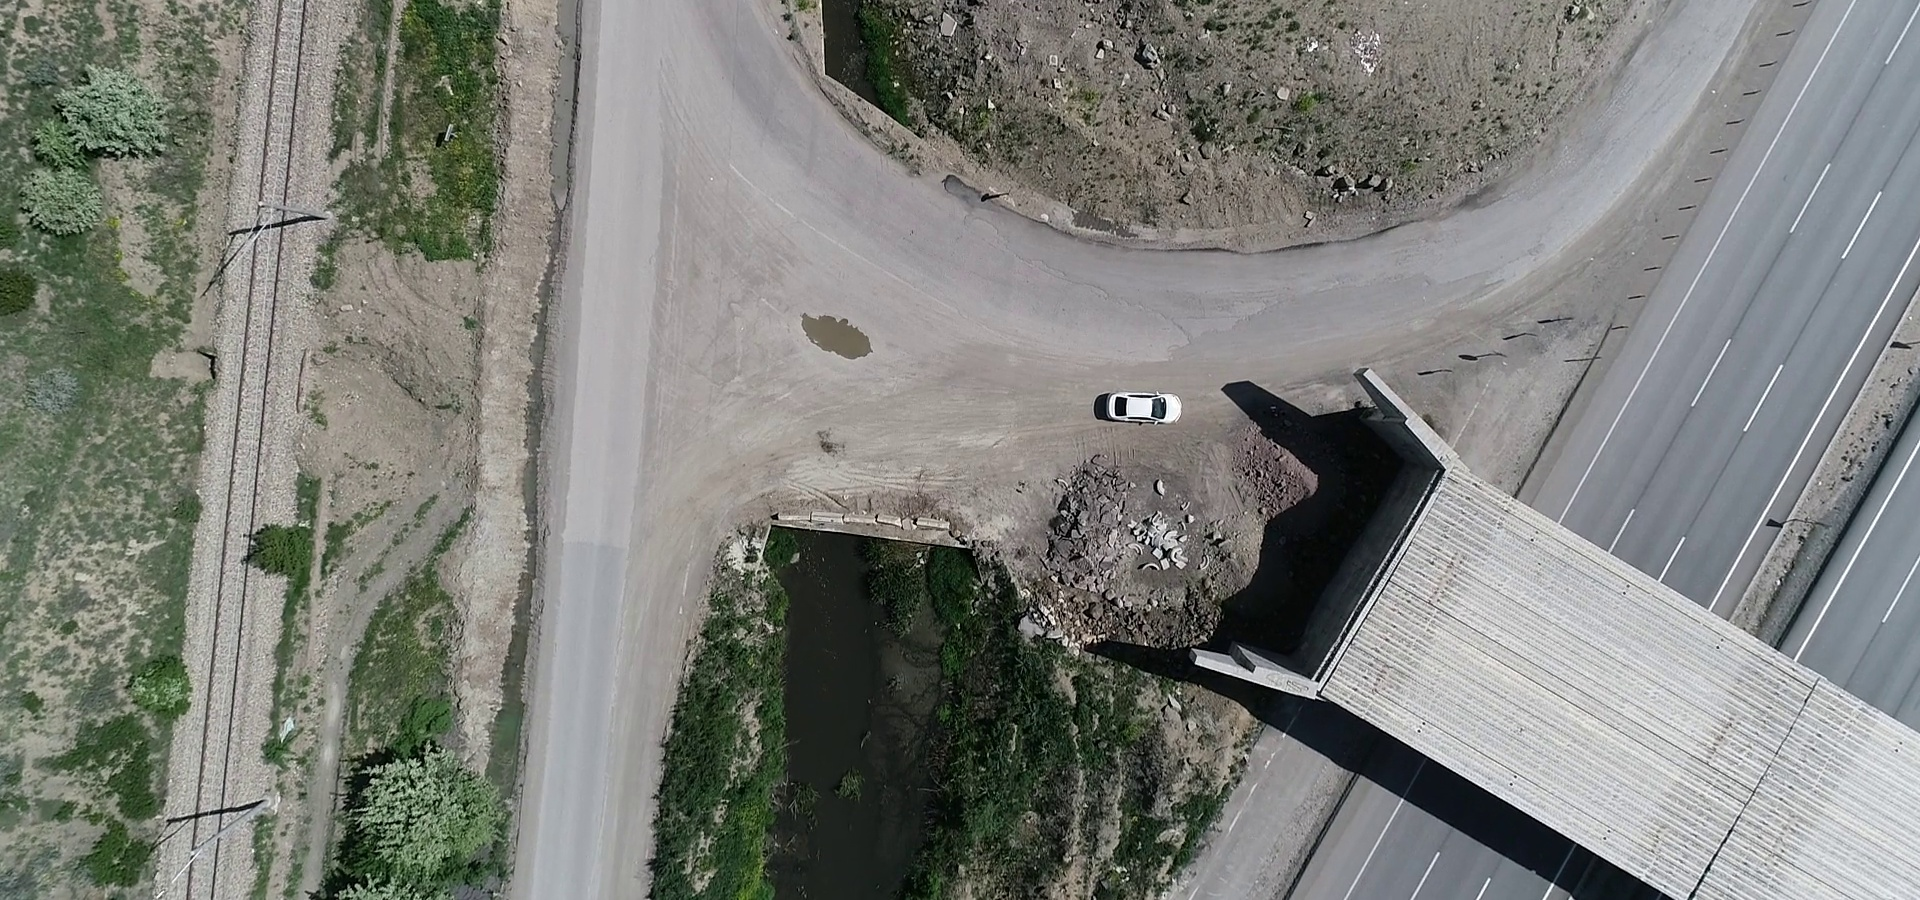araba: (1096, 383, 1200, 429)
